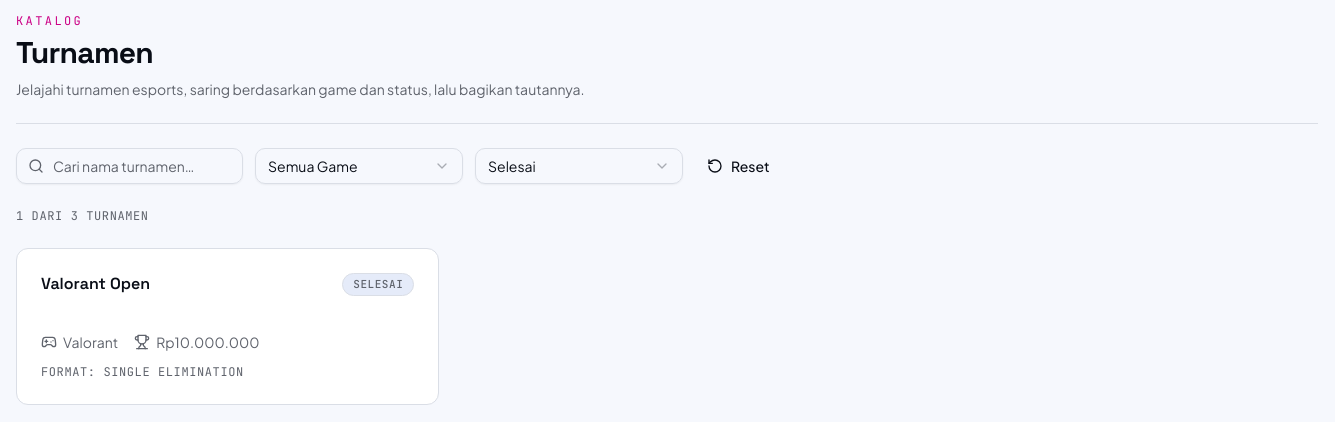
Test: katalog turnamen › memuat filter status dari URL dan menyimpannya kembali ke URL
Expected: the text "Valorant Open" is shown, [41,273,150,295]
Expected: the text "MLBB Championship" is not shown
# Clearing filters updates the URL so the view is shareable.
Click the button "Reset" at (738, 166), box [695,148,782,184]
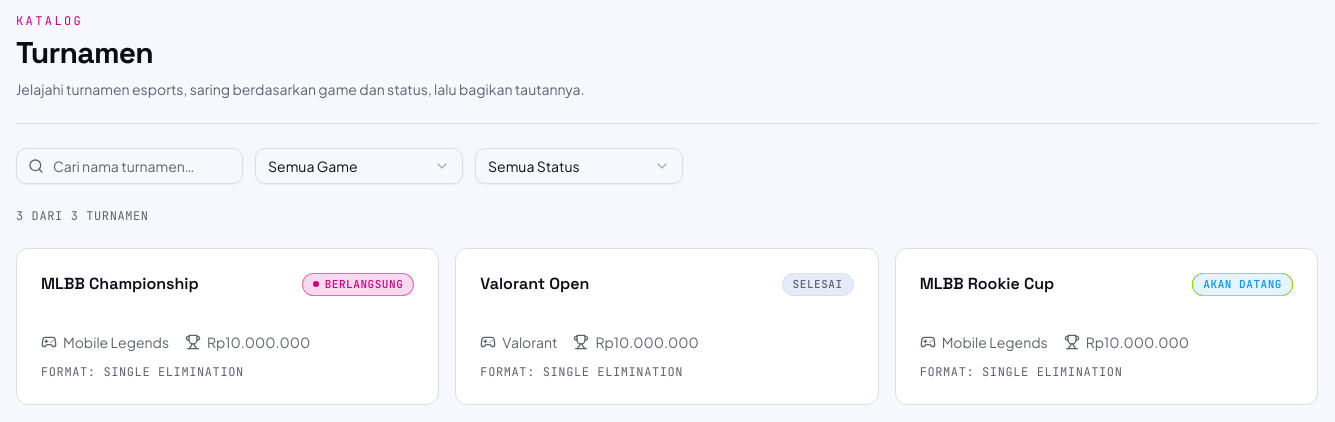
Now the text "MLBB Championship" is shown, box [41,273,199,295]
